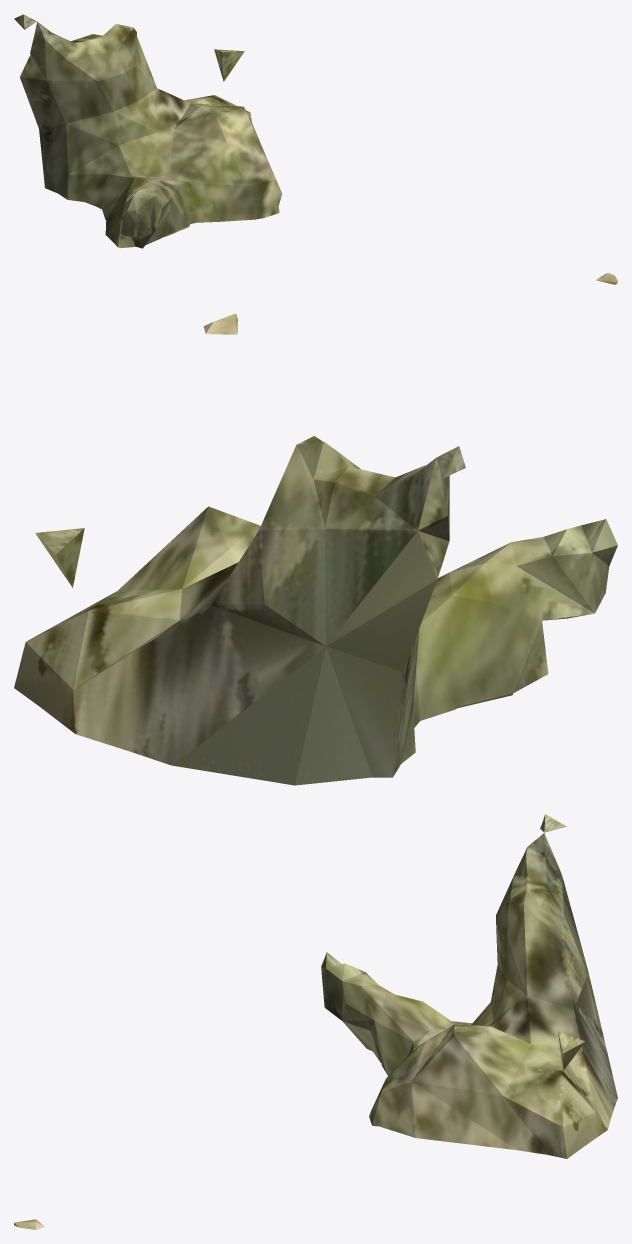
3 views of the same model, one above another, from view 1: azimuth 30°, elevation 25°; view 2: azimuth 150°, elevation 25°; view 3: azimuth 270°, elevation 25° (orthographic). The views are drawn at different scales.
Bounding box in the file's own units: 2.06 × 0.9954 × 2.57.
Materials: 1 (1 with a texture image).
